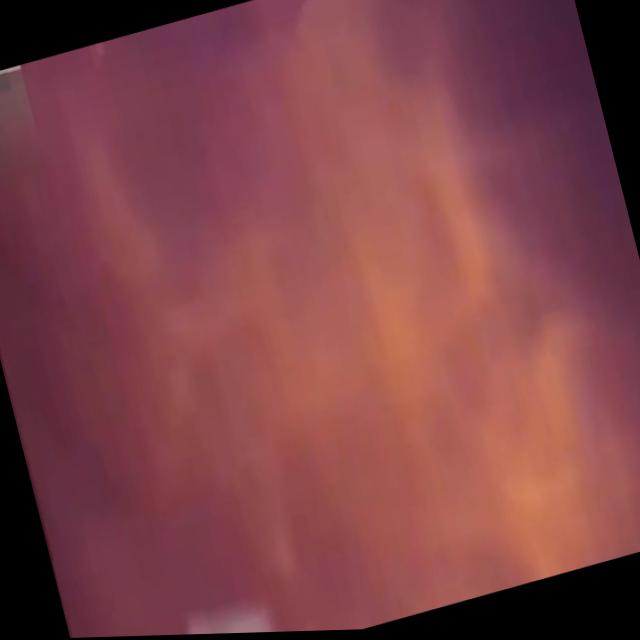fire: (227, 0, 640, 632)
